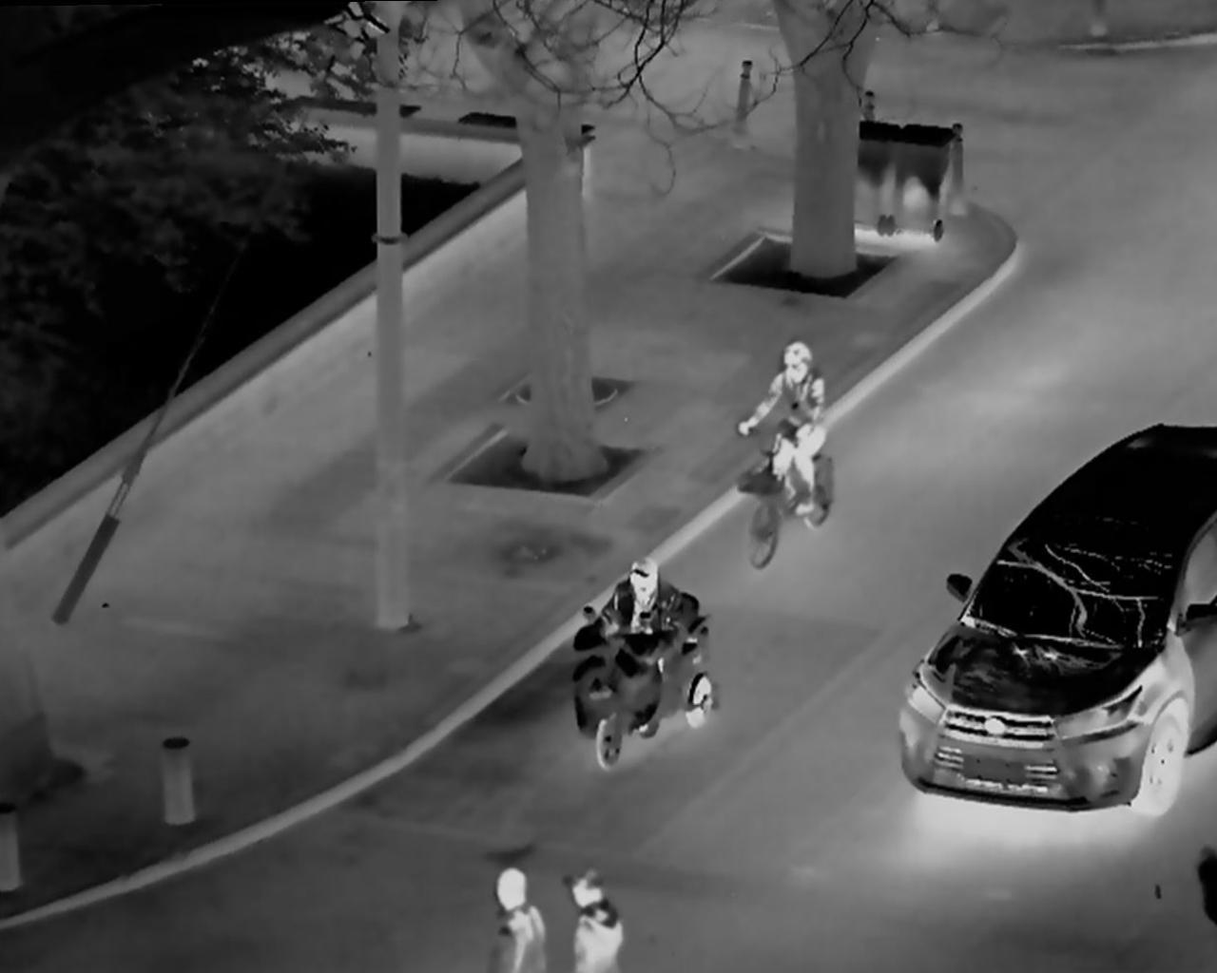person: (742, 330, 833, 538), (595, 550, 687, 698), (564, 855, 627, 973), (475, 849, 531, 973)
